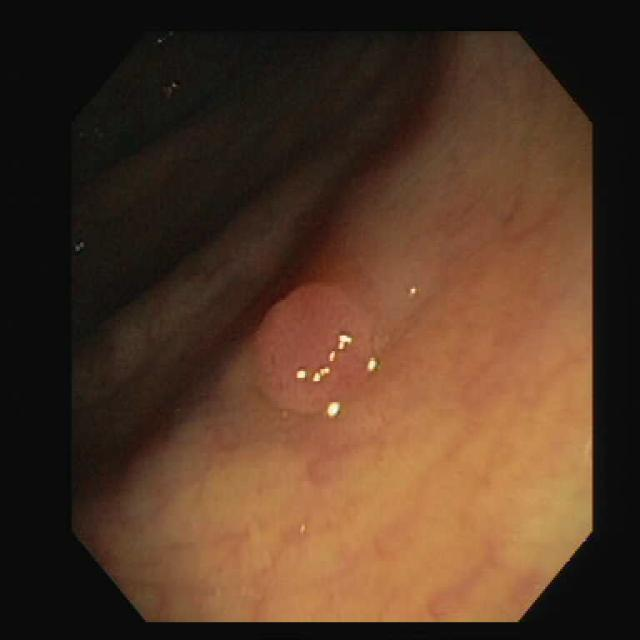tumor: (255, 284, 372, 411)
